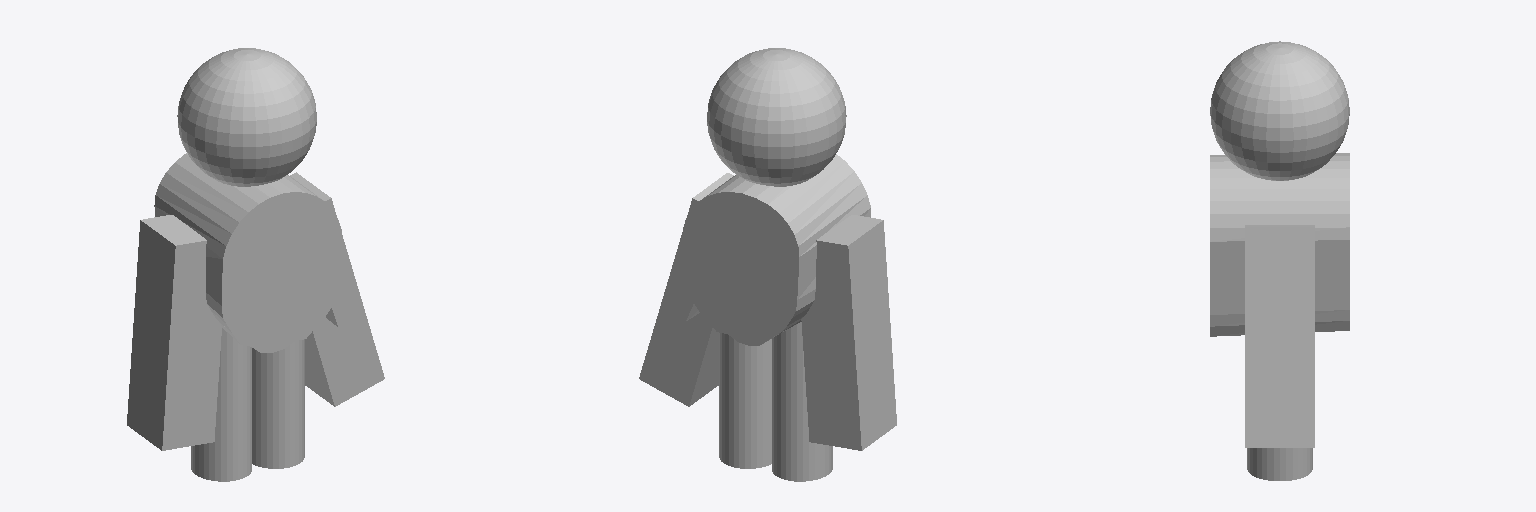
File: Figurine58.obj
3 renders of one model, left to right at view 1: azimuth 30°, elevation 25°; view 2: azimuth 150°, elevation 25°; view 3: azimuth 270°, elevation 25°, orthographic.
Parts seen in each view (by area): view 1: Cylinder; view 2: Cylinder; view 3: Cylinder.
Boxes of the visible parts, box(x1,y1,x2,y2) form: Cylinder: box(127, 48, 384, 481); Cylinder: box(639, 48, 896, 481); Cylinder: box(1210, 41, 1349, 480).
Size of the model in its own units: 3.68 by 6.42 by 2.